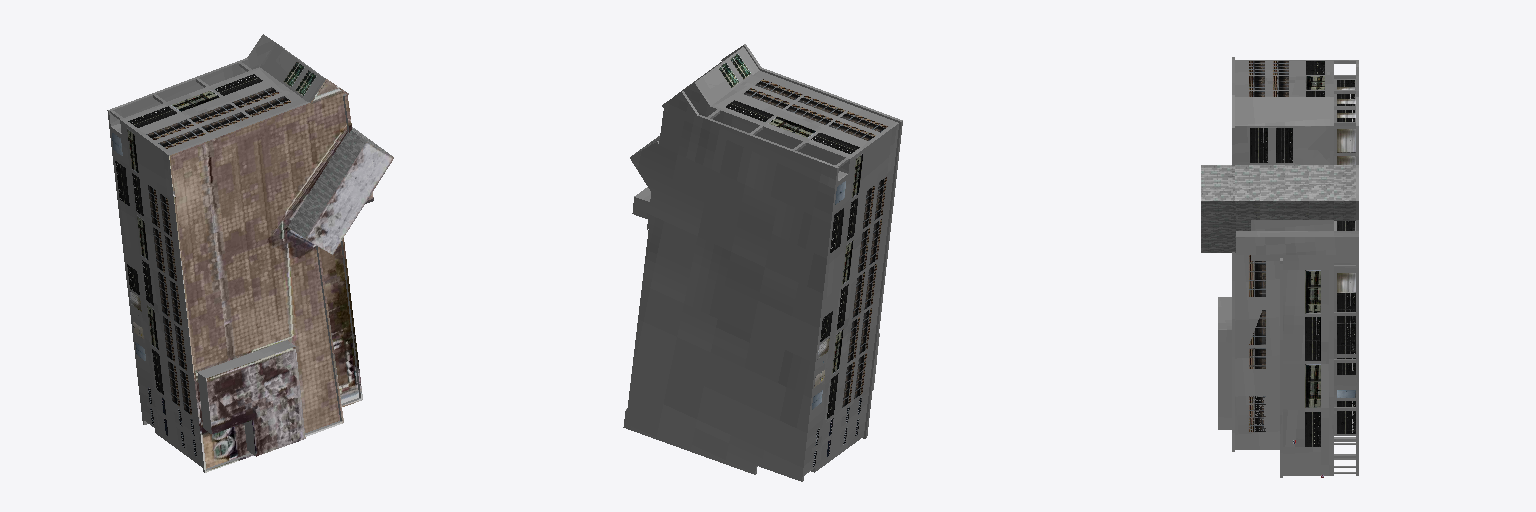
3 renders of one model, left to right at view 1: azimuth 30°, elevation 25°; view 2: azimuth 150°, elevation 25°; view 3: azimuth 270°, elevation 25°, orthographic.
Parts seen in each view (by area): view 1: polygon.858; view 2: polygon.858; view 3: polygon.858.
Boxes of the visible parts, x1,y1,x2,y2 form: polygon.858: [107, 34, 393, 472]; polygon.858: [623, 44, 902, 481]; polygon.858: [1201, 57, 1358, 477].
Bounding box in the file's own units: 36.25 × 57.24 × 22.39.
1 materials, 1 textured.